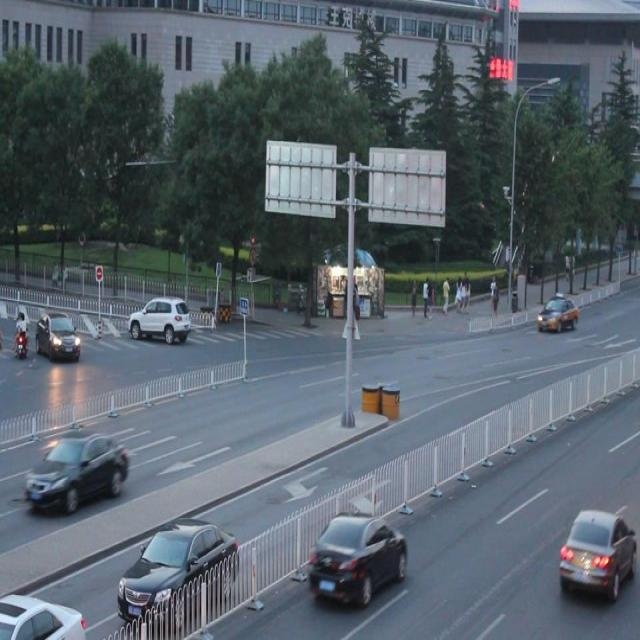car: (117, 516, 240, 618), (307, 509, 408, 603), (25, 426, 130, 513), (555, 507, 640, 598), (0, 586, 88, 640), (128, 292, 189, 344), (36, 310, 80, 360), (537, 294, 577, 332)
